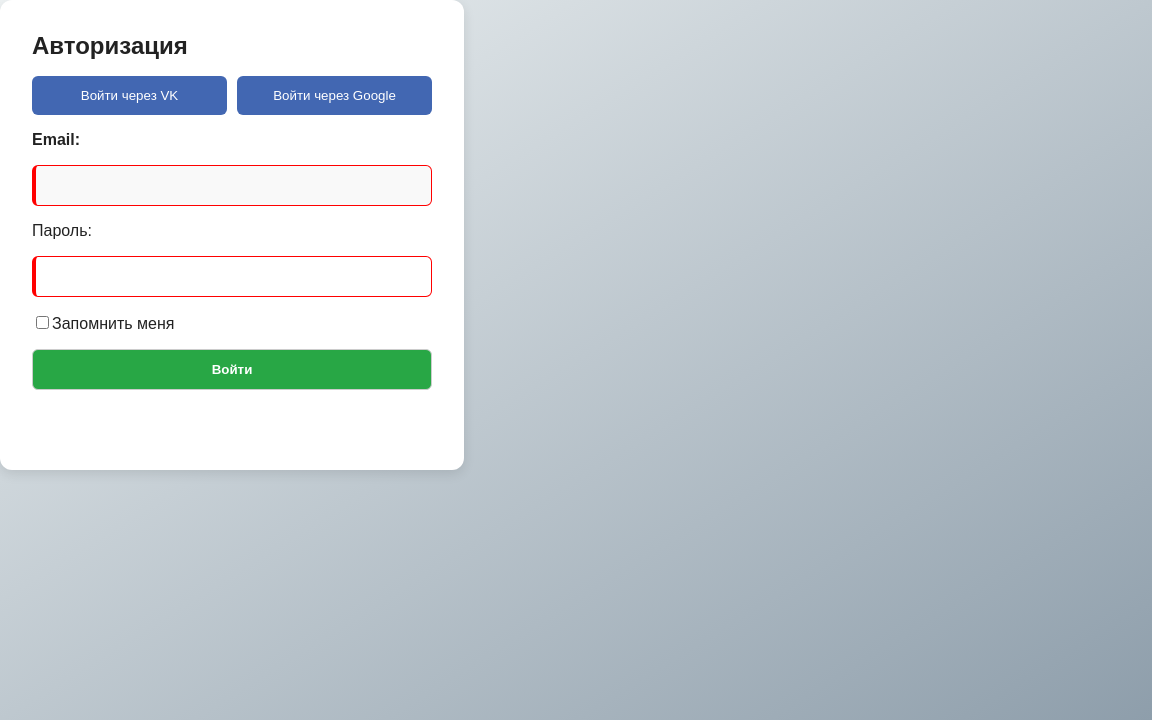
it: LoginForm › submits with correct email and password
Type "test@example.com" into the field labelled "Email:".
click(232, 186); type("test@example.com")  # box x1=32 y1=165 x2=432 y2=206
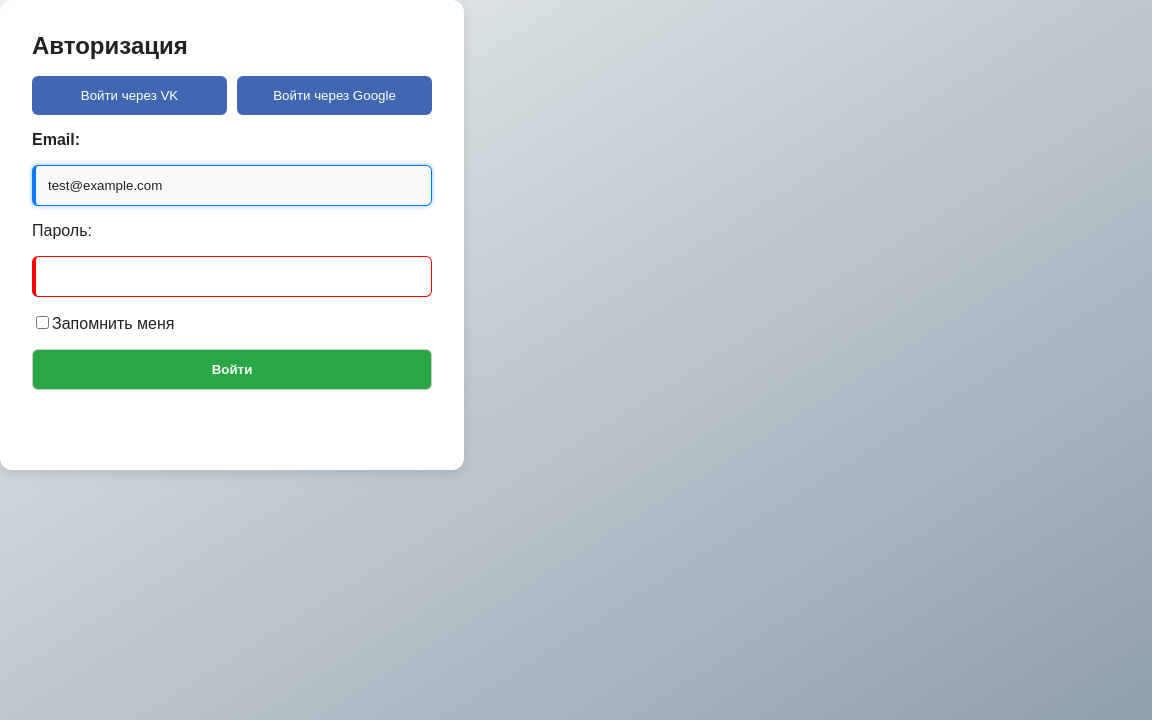
Type "123456" into the password field labelled "Пароль:".
click(232, 276); type("123456")  # box x1=32 y1=256 x2=432 y2=297
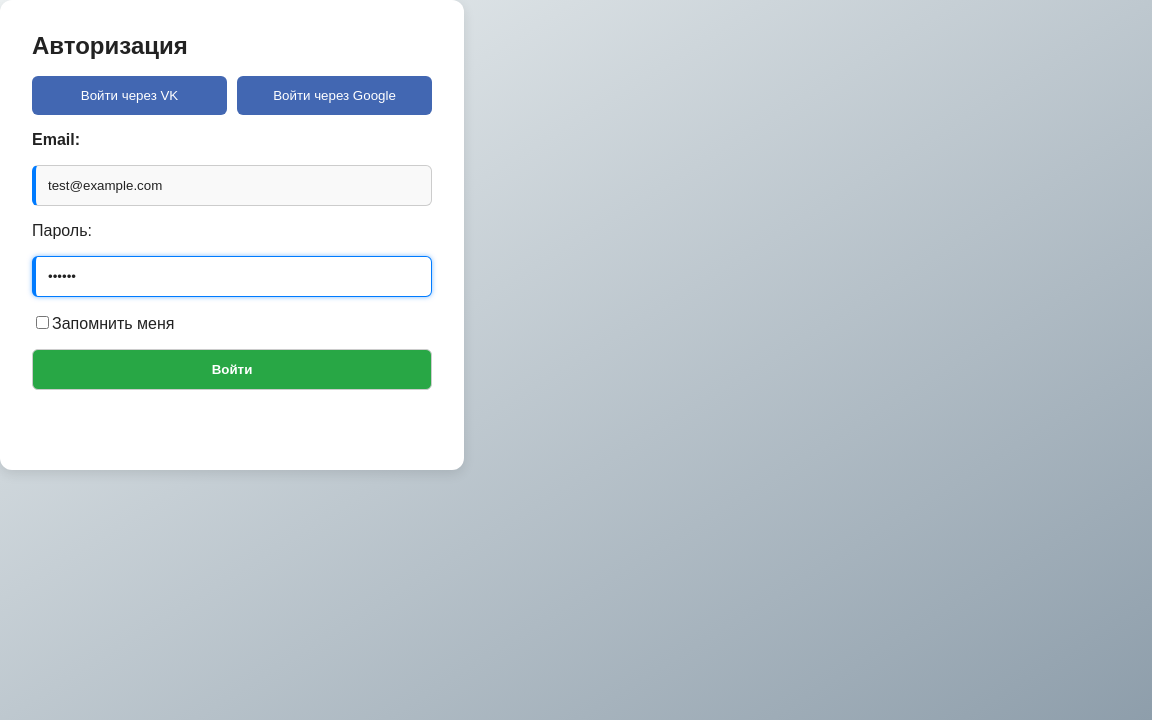
Click the button "Войти".
click(232, 370)  # box x1=32 y1=349 x2=432 y2=390
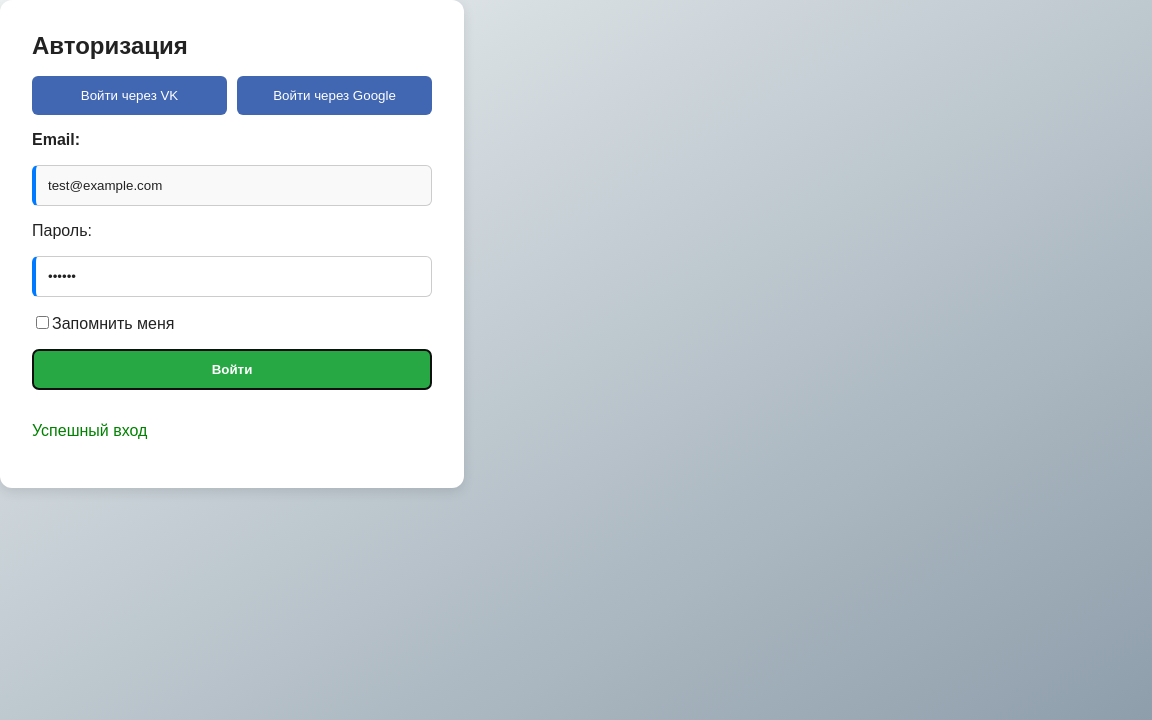
Expected: the text "Успешный вход" is shown, x1=32 y1=422 x2=147 y2=439
